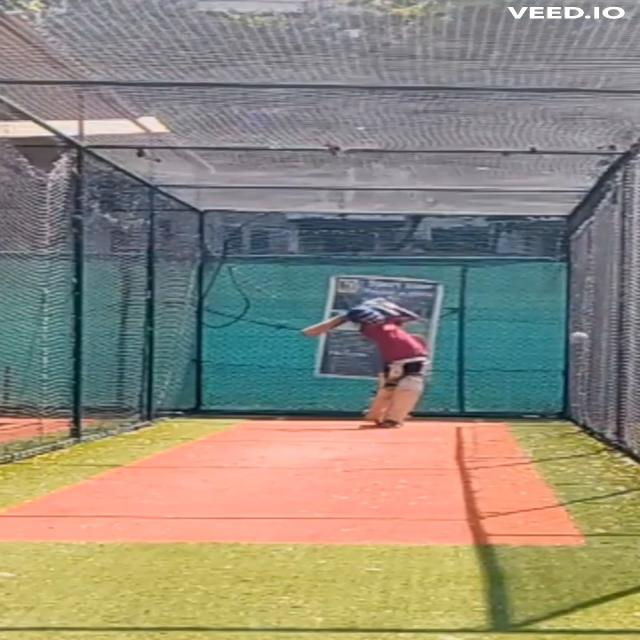ball: (563, 330, 589, 347)
